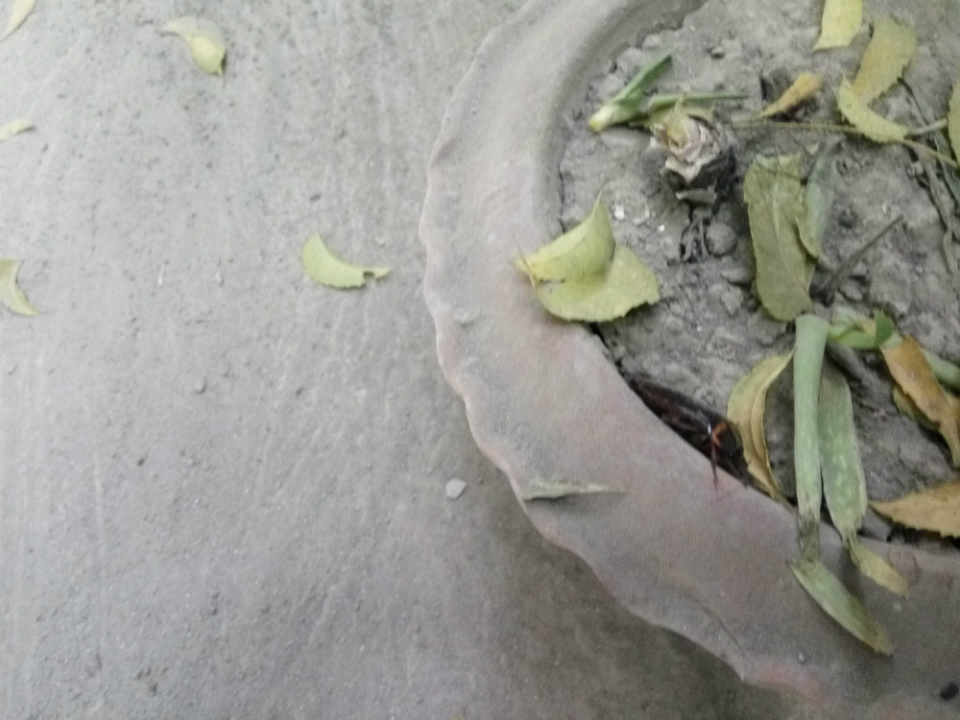cockroach: (622, 373, 755, 485)
